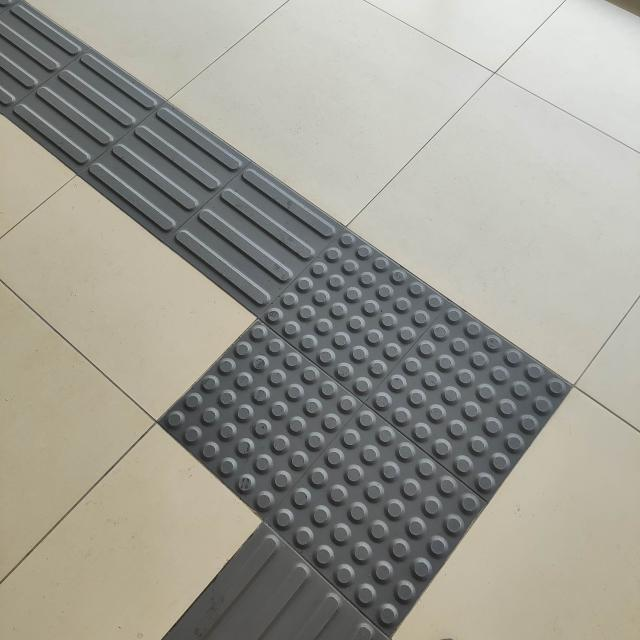kiri: (114, 57, 606, 640)
